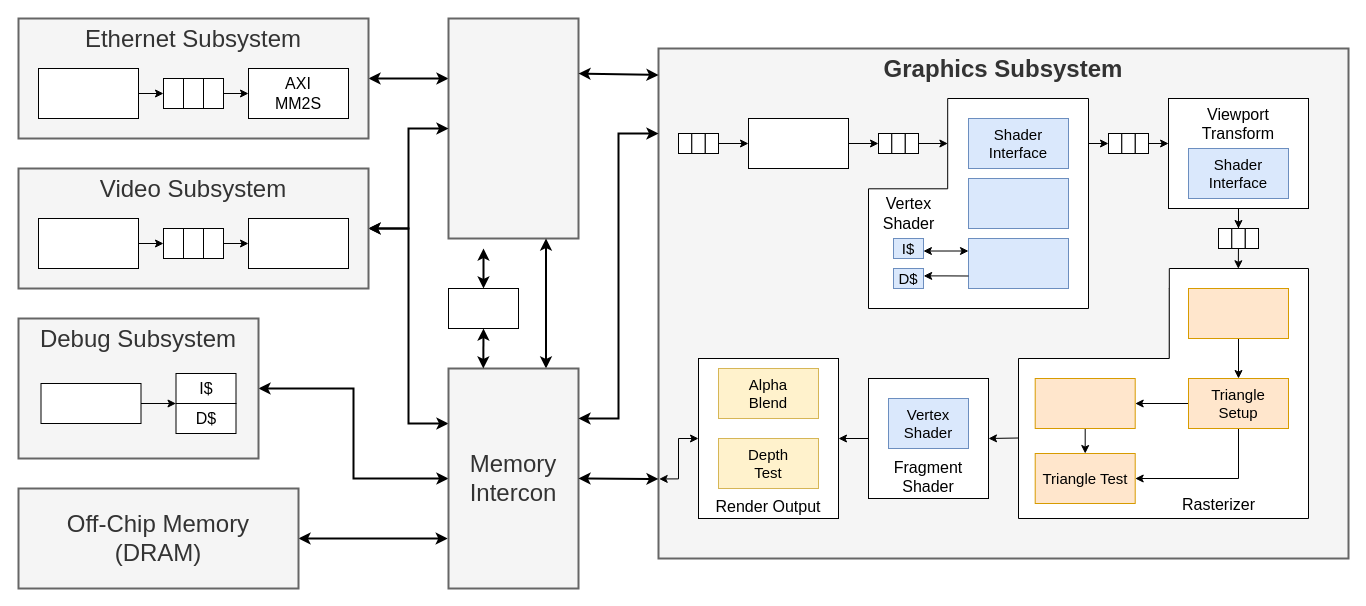
Image size: 1366x606. Some labels were removed from this diagram. Here are the shapes that lost their labels. From the top down, the centre of each, then its label:
point 88,93: UDP Ethernet
point 513,128: Peripheral Intercon
point 798,143: Vertex Fetch
point 1018,203: Shader Control
point 88,243: Video DMA
point 298,243: Video Out
point 1018,263: Shader Core
point 483,308: System DMA
point 1238,313: Primitive Assembly
point 90,403: Microblaze CPU
point 1084,403: Triangle Traversal
